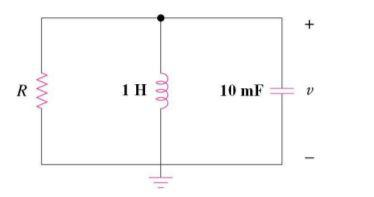inductor: (151, 63, 174, 118)
